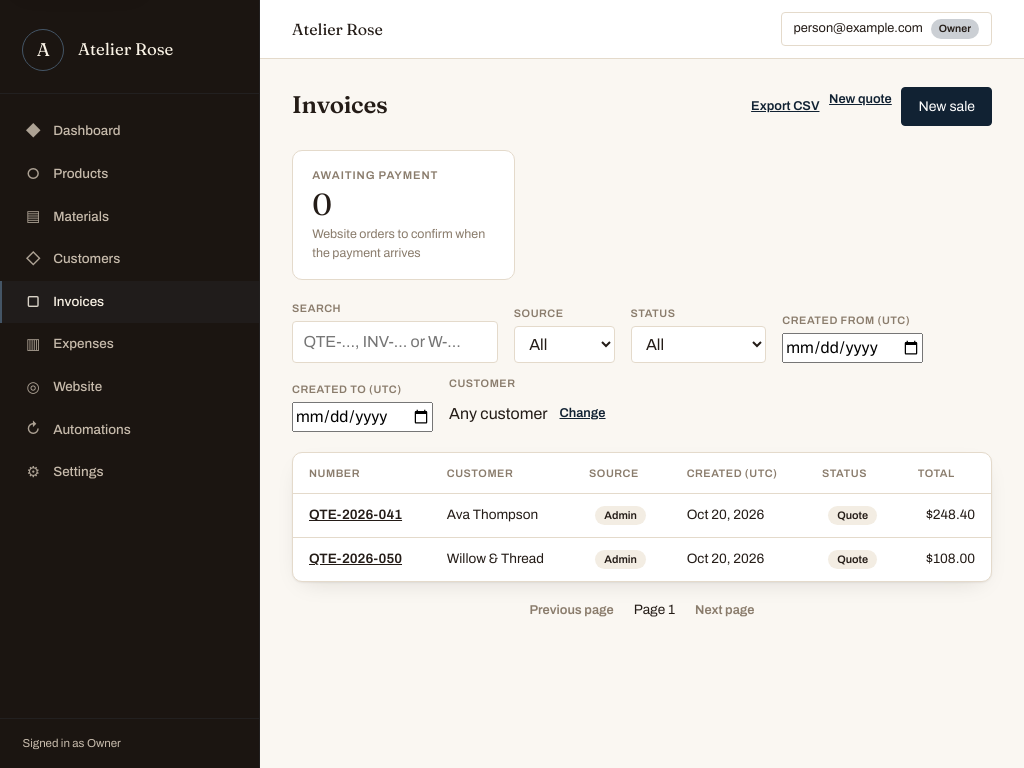
Test: invoices list › the customer filter puts only the customer's id in the URL
Expected: the link "QTE-2026-041" is shown, [309,507,402,522]
Step 1. Click the button with aria-label "Change customer" → (582,414), box [560,401,606,427]
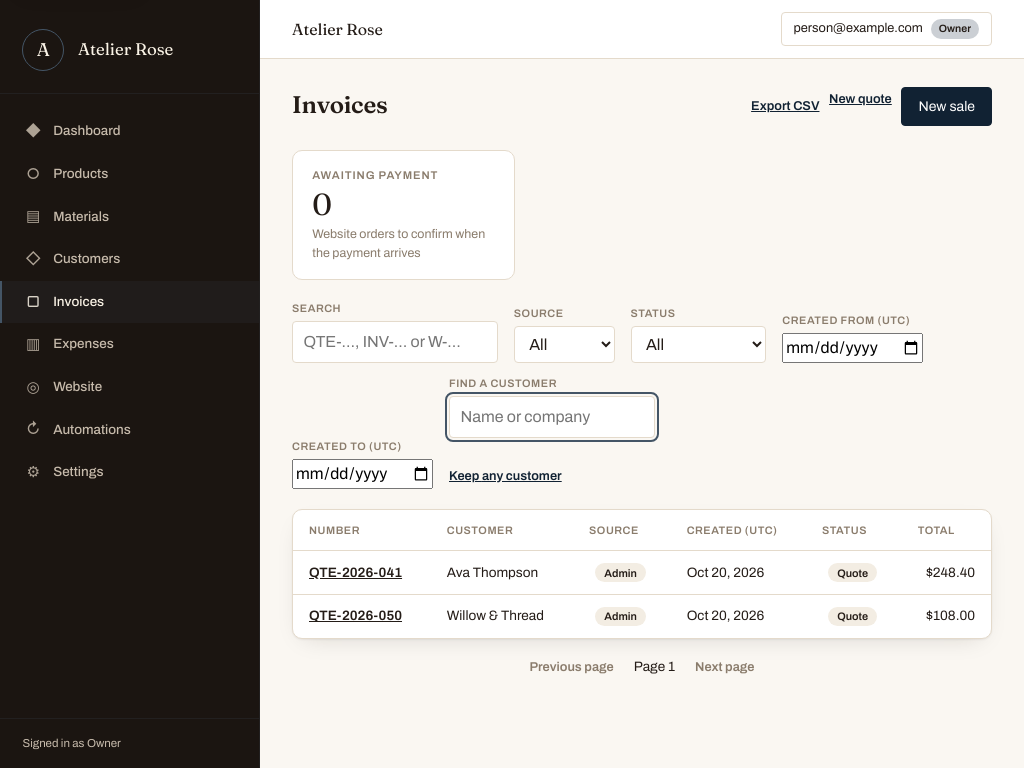
Step 2. Type "willow" into the search field labelled "Find a customer" → (552,417), box [449,396,655,438]
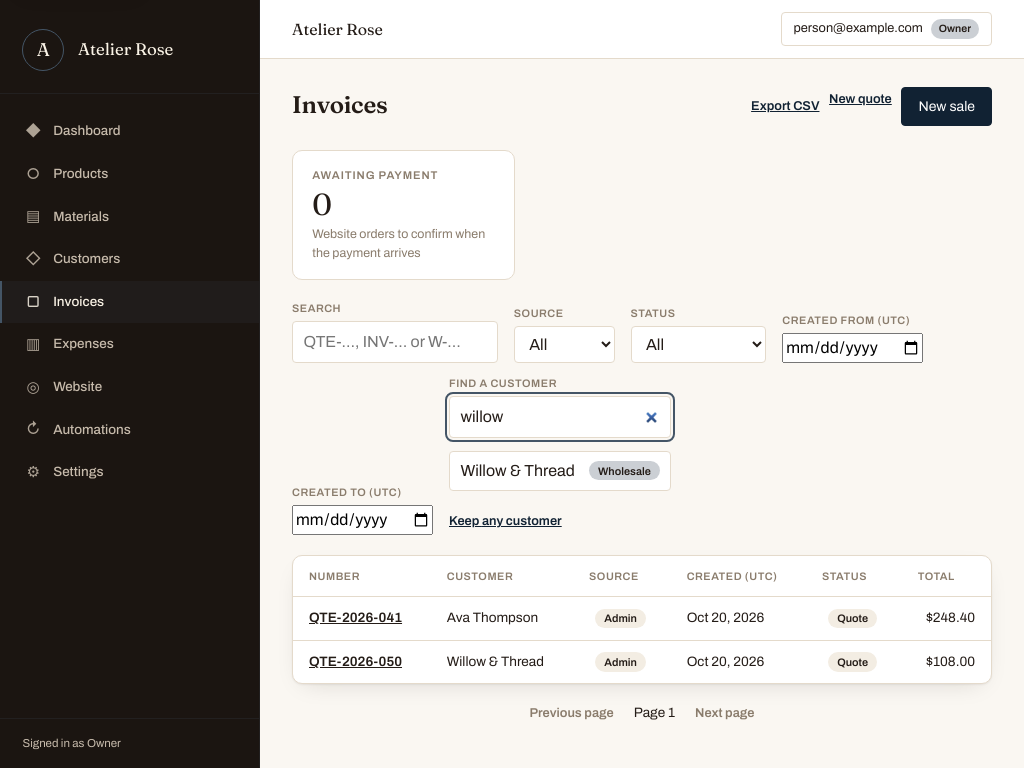
Step 3. Click the button "Willow & Thread Wholesale" → (560,471), box [449,451,671,491]
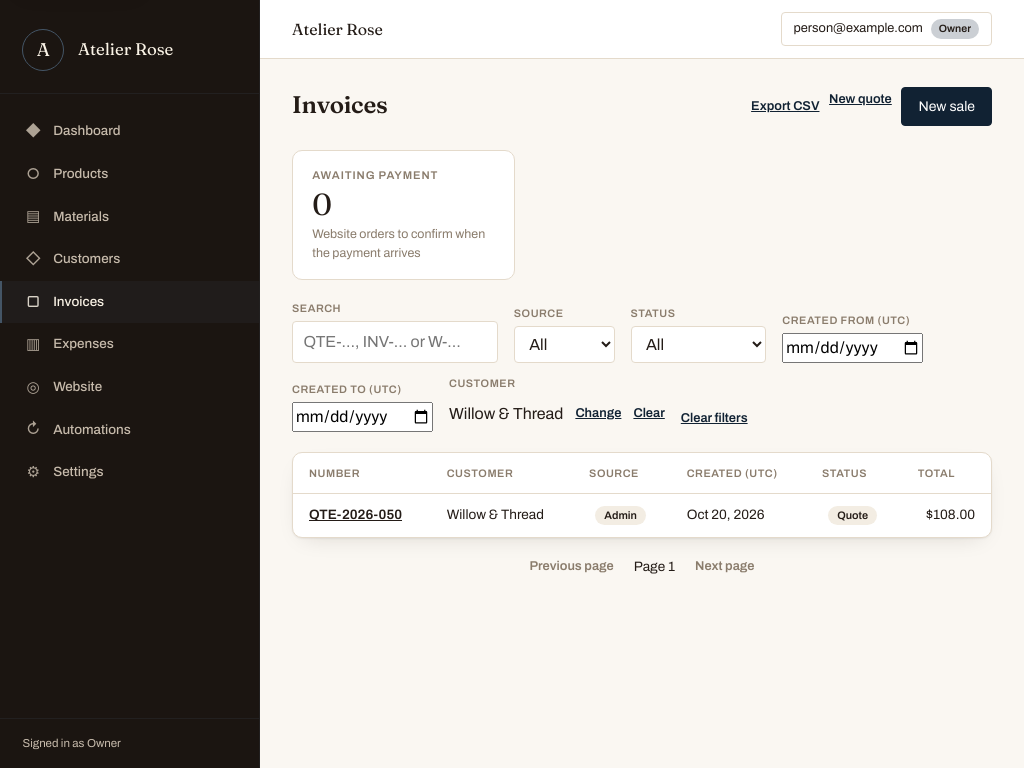
Expected: the link "QTE-2026-050" is shown, [309,507,402,522]
Expected: the text "Willow & Thread" is shown, [449,402,563,426]
Expected: the link "QTE-2026-041" is gone
